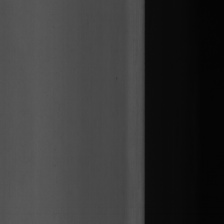inclusion: (114, 74, 119, 83)
